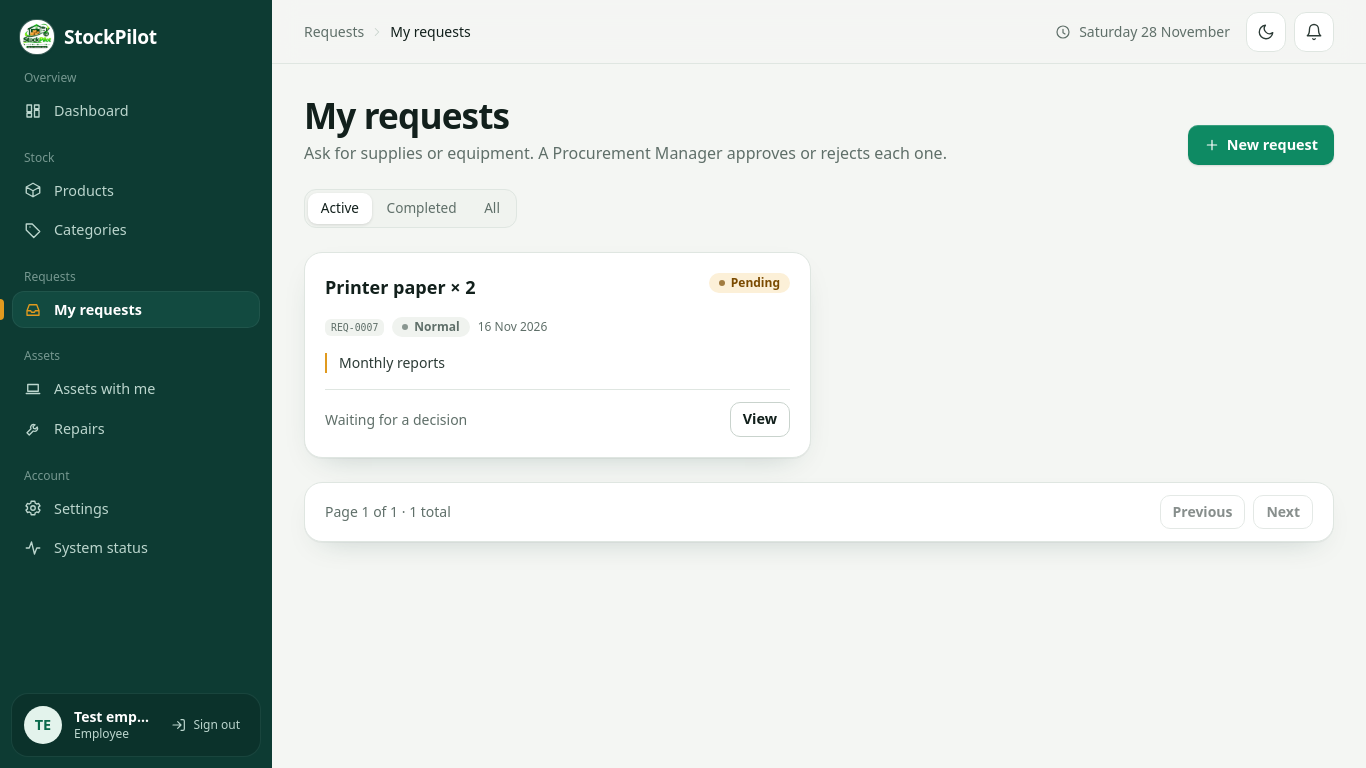
request pop-ups › show a request to read, and edit it from there
Click the button with aria-label "View request for Printer paper". click: click(760, 420)
box: [730,402,790,437]
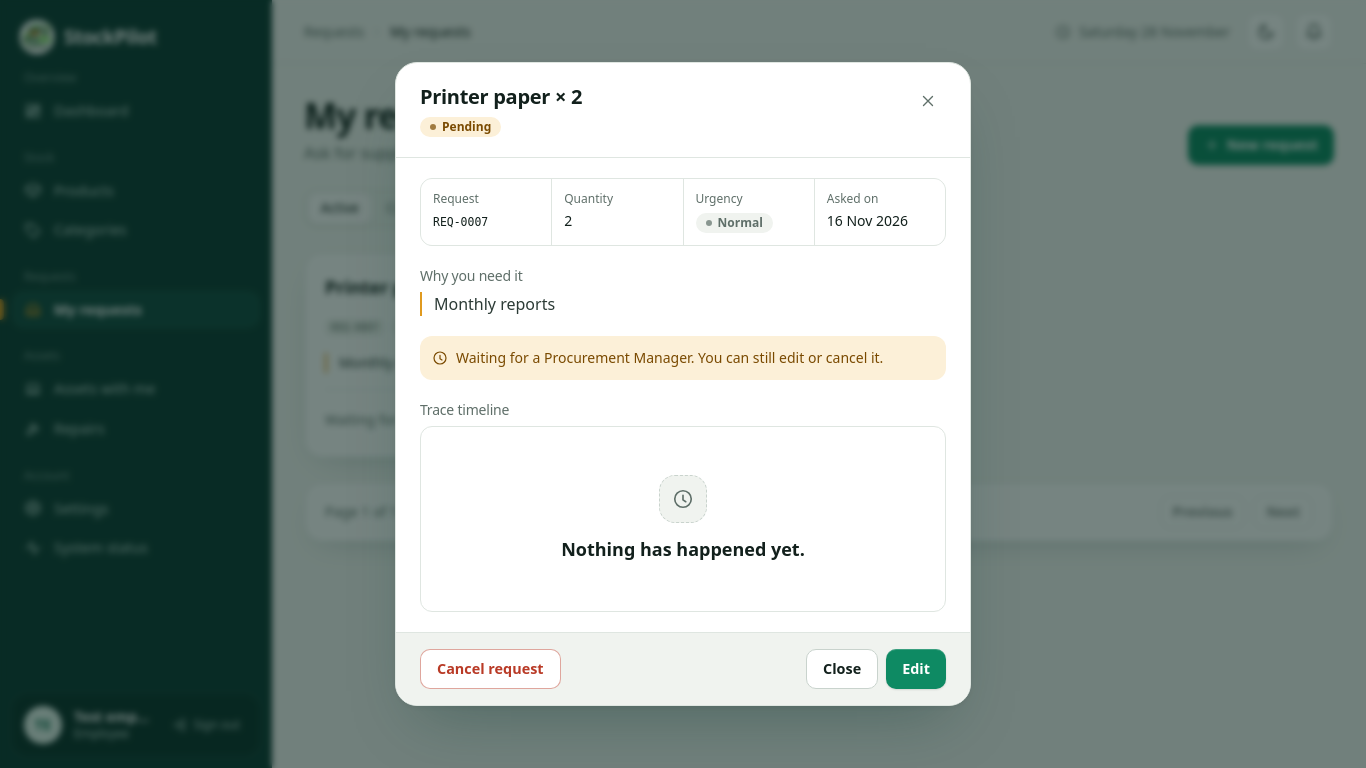
Now the text "REQ-0007" is shown, box [433,215,488,229]
Now the text "Monthly reports" is shown, box [420,292,946,316]
Click the button "Edit". click: click(916, 669)
box: [886,649,946,689]
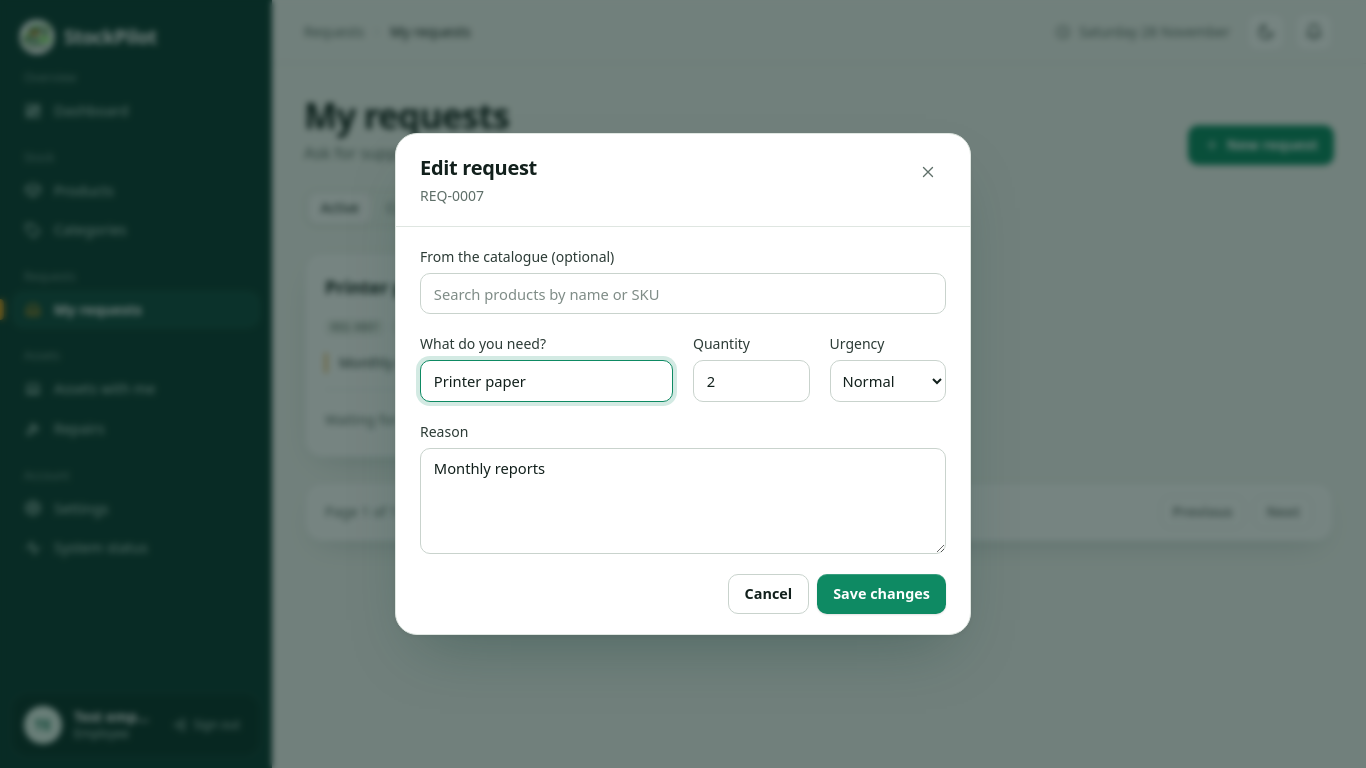
Replace the text in the number field labelled "Quantity" with "5". click: (751, 381)
box: [693,360,810,402]
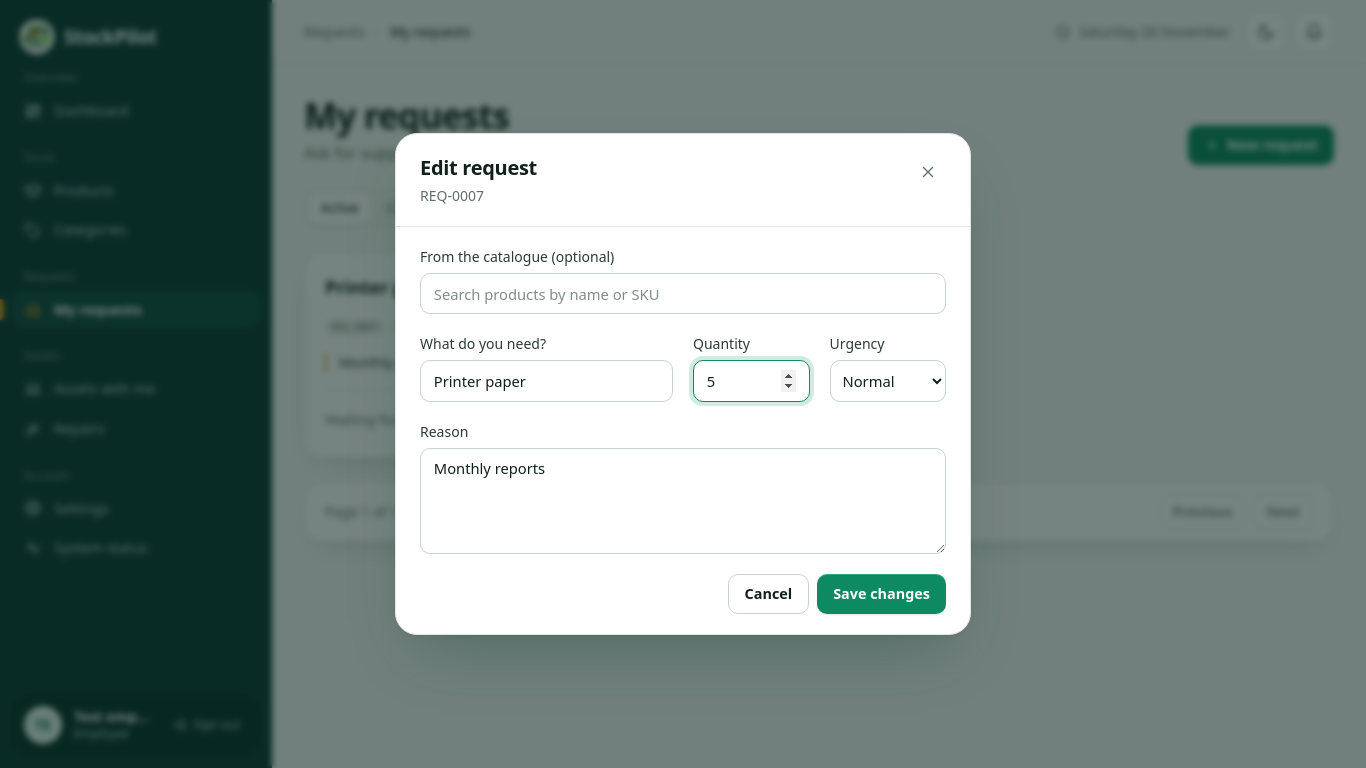
Click the button "Save changes". click: click(882, 594)
box: [817,574,946,614]
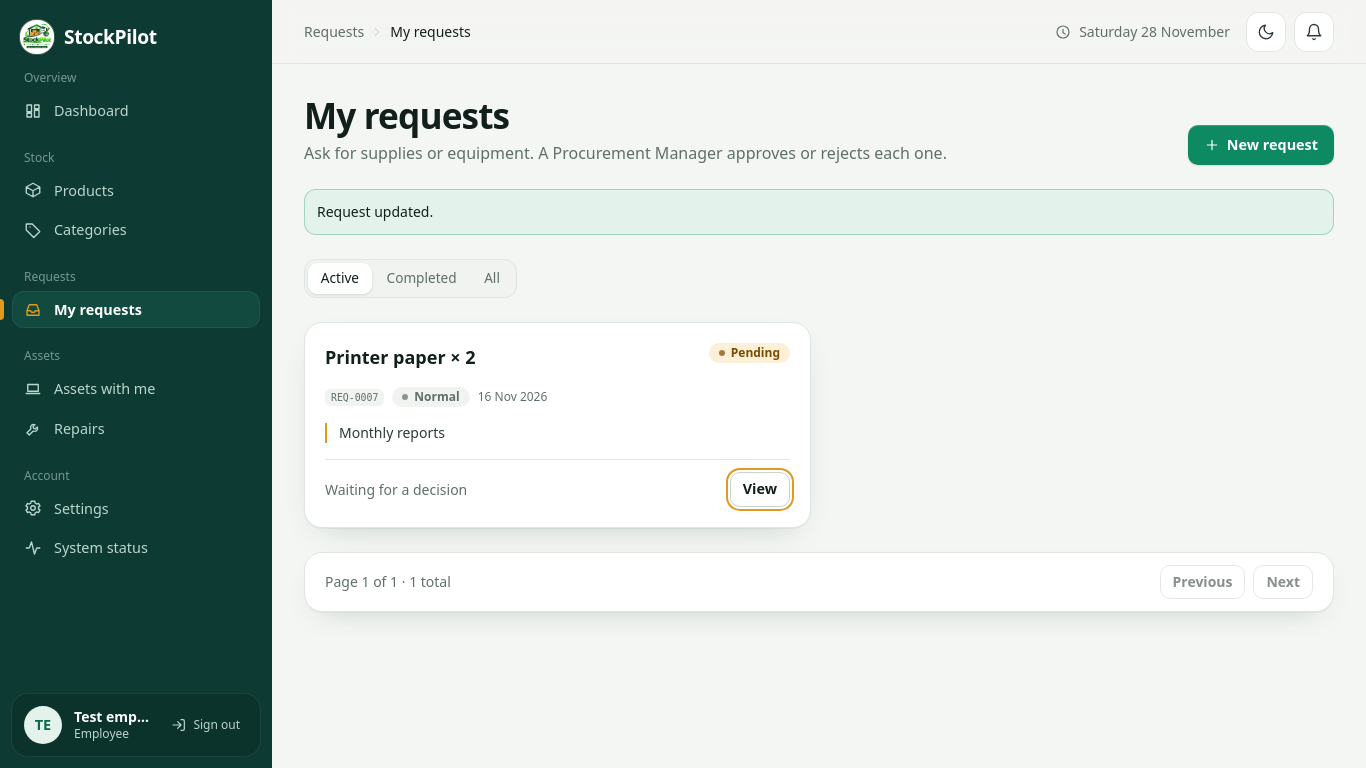
Now the text "Request updated." is shown, box [304,189,1334,235]
Now the dialog is gone
